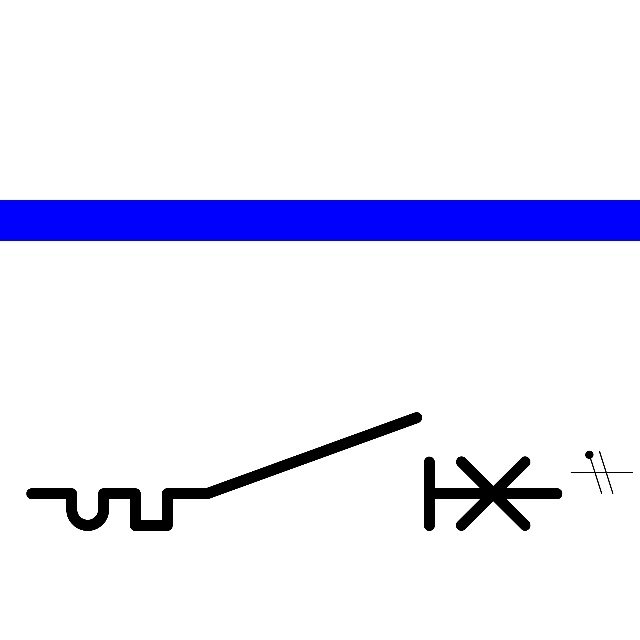interruptor_termomagnetico: (18, 404, 570, 539)
